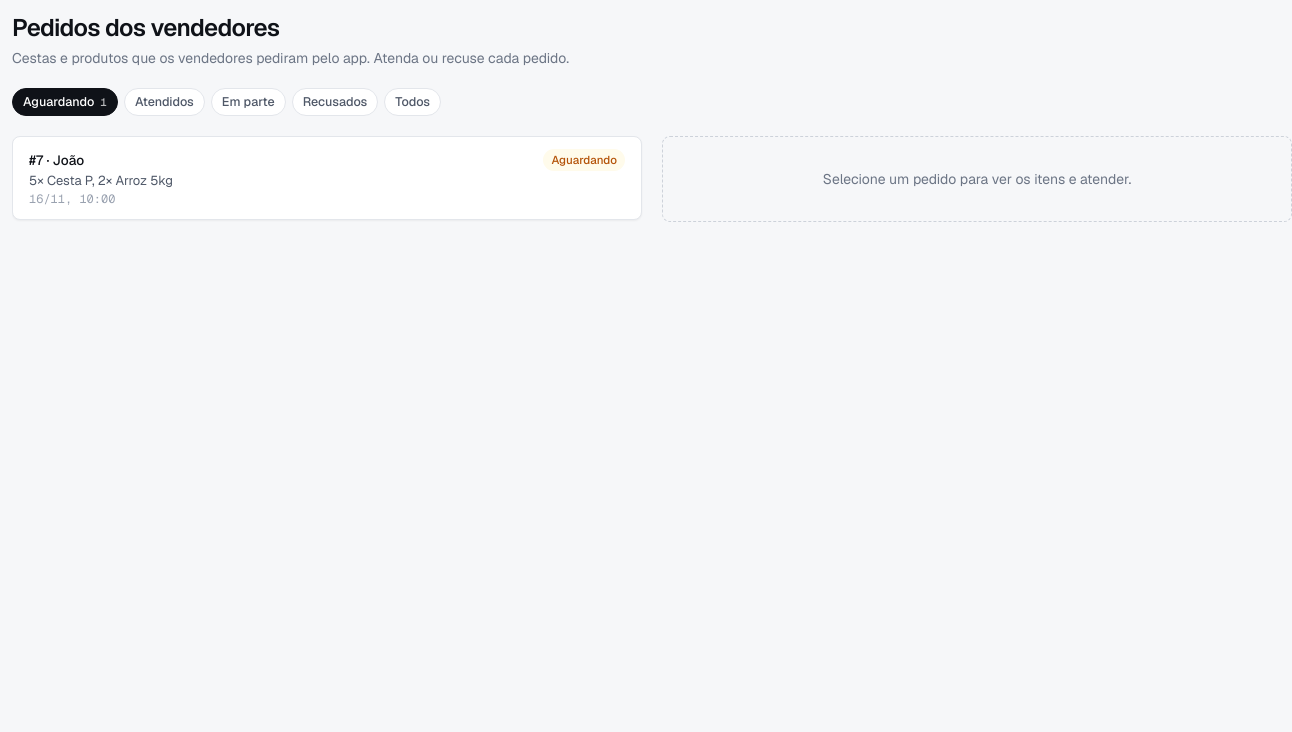
Scenario: PedidosVendedores › recusar exige motivo
Later steps or results of the test are not shown.
Click the text "#7 · João" at (57, 160), box [29,150,84,170]
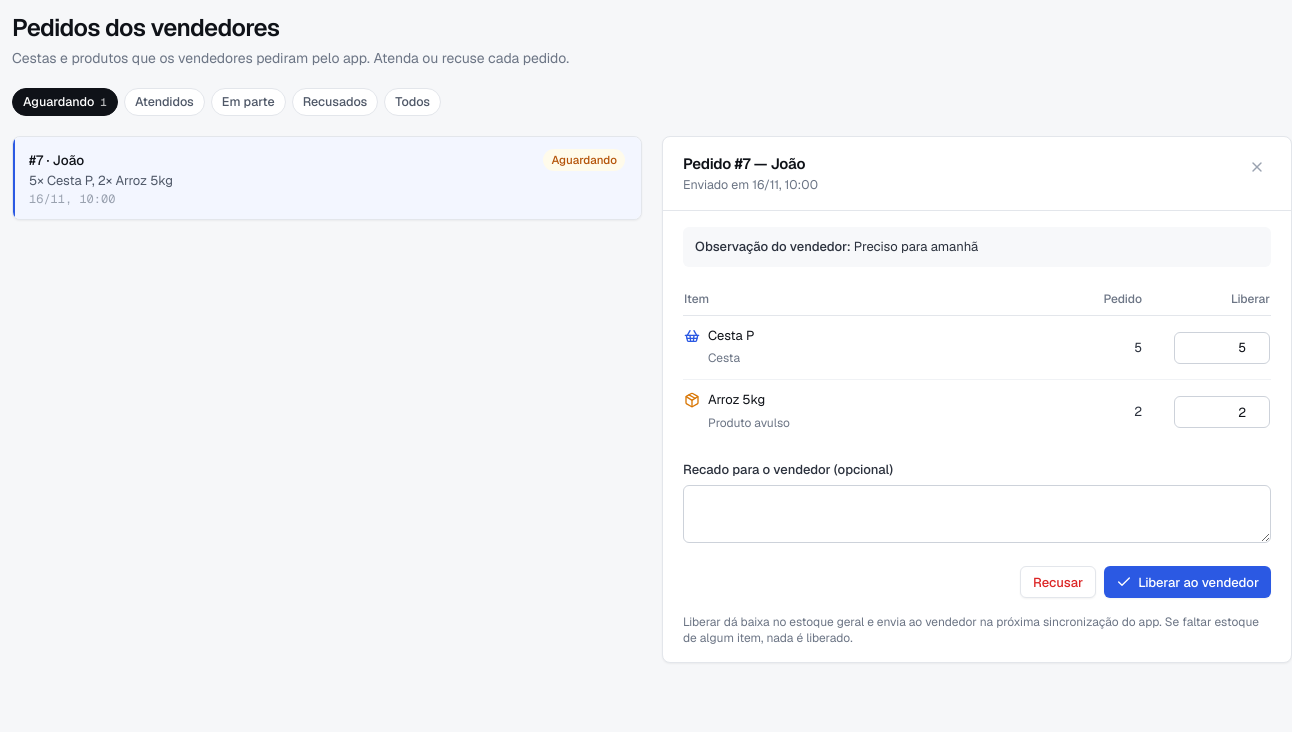
Click the button "Recusar" at (1058, 582), box [1020,566,1096,598]
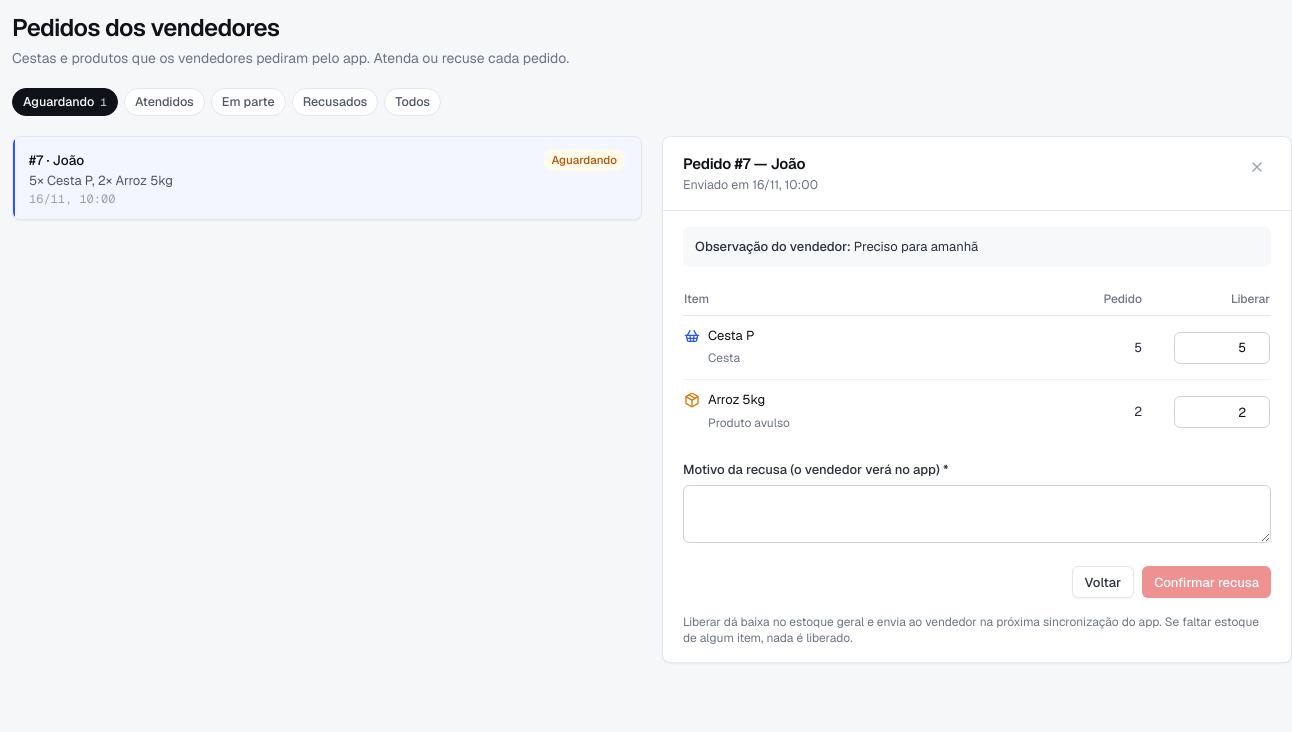
Expected: the button "Confirmar recusa" is disabled, [1142,566,1271,598]
